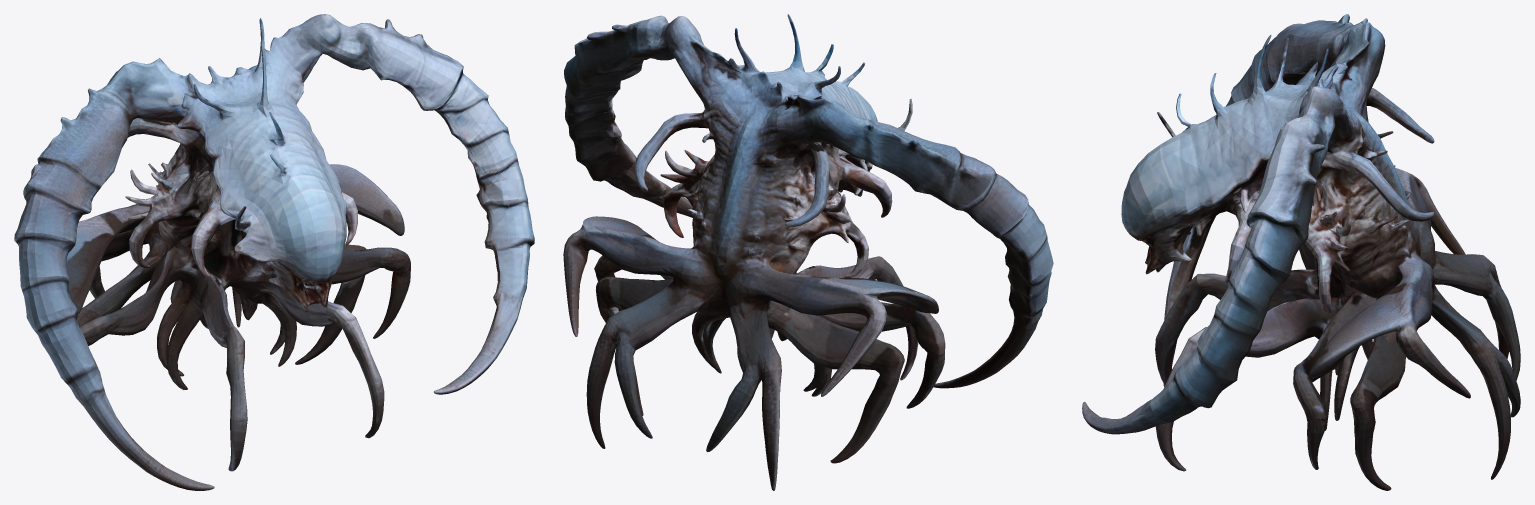
The model's file is asset.glb.
3 views of the same model, side by side, from view 1: azimuth 30°, elevation 25°; view 2: azimuth 150°, elevation 25°; view 3: azimuth 270°, elevation 25° (orthographic). The views are drawn at different scales.
Visible parts, largest first — view 1: tripo_node_d3210da6-c279-4e92-bc0b-fedf863cca41; view 2: tripo_node_d3210da6-c279-4e92-bc0b-fedf863cca41; view 3: tripo_node_d3210da6-c279-4e92-bc0b-fedf863cca41.
Boxes of the visible parts, bbox=[...] form: tripo_node_d3210da6-c279-4e92-bc0b-fedf863cca41: bbox=[14, 14, 534, 490]; tripo_node_d3210da6-c279-4e92-bc0b-fedf863cca41: bbox=[563, 14, 1053, 490]; tripo_node_d3210da6-c279-4e92-bc0b-fedf863cca41: bbox=[1082, 14, 1520, 490].
Size of the model in its own units: 0.9375 by 0.7149 by 0.693.
Materials: 1 (1 with a texture image).
